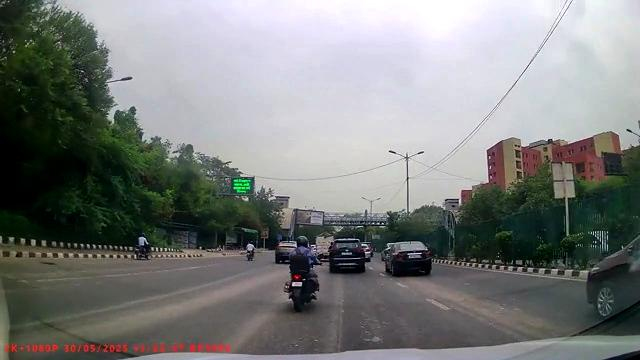motorcycle_with_helmet: (284, 235, 320, 312)
